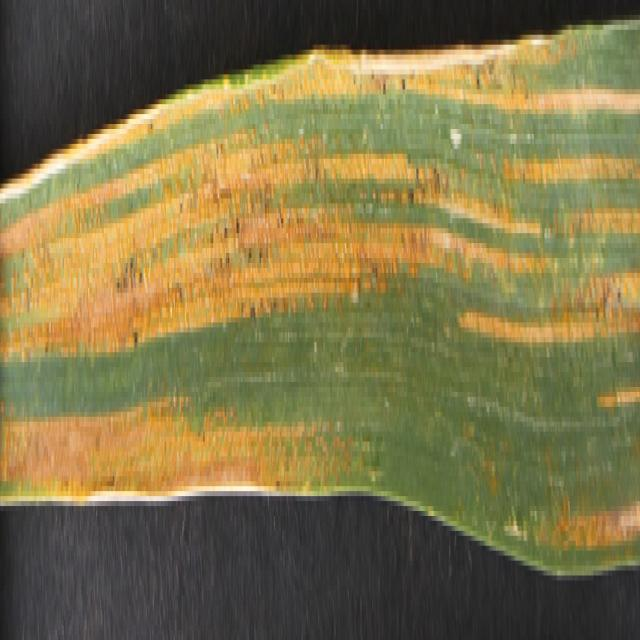leaf rust: (0, 64, 640, 545)
